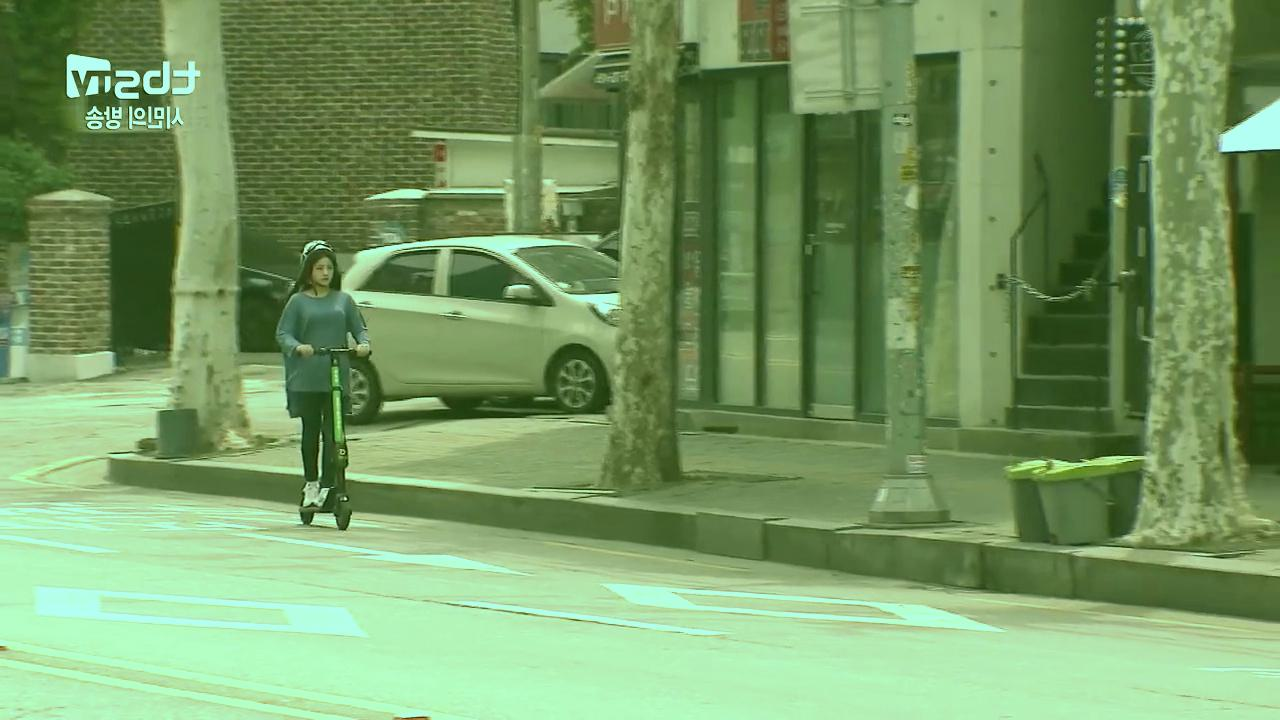helmet: (269, 235, 376, 532)
